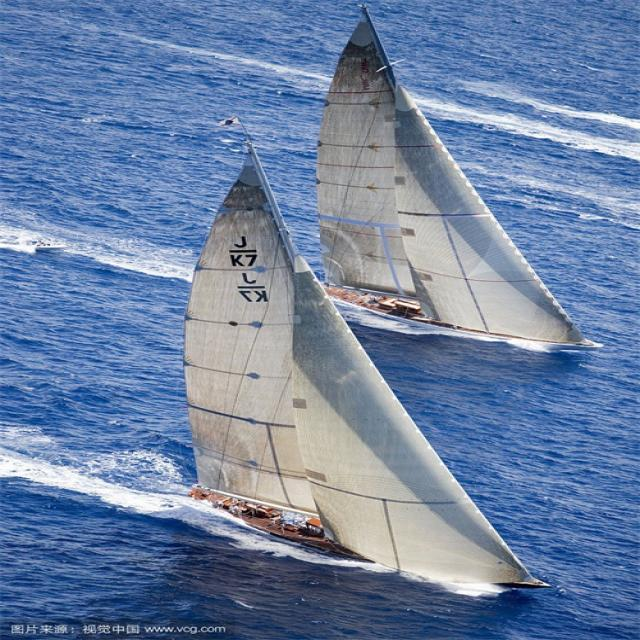Ship: (162, 145, 553, 600), (283, 10, 619, 351)
